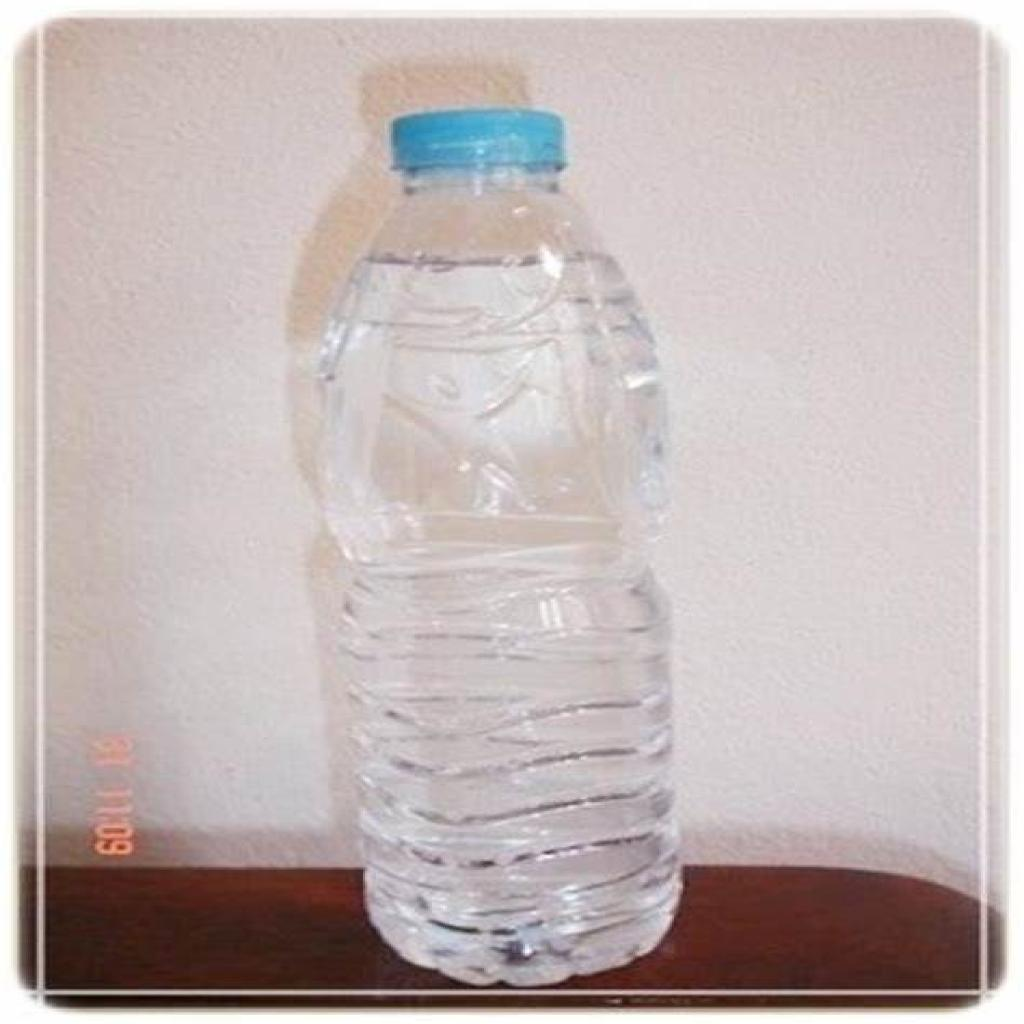organico: (260, 76, 735, 1013)
